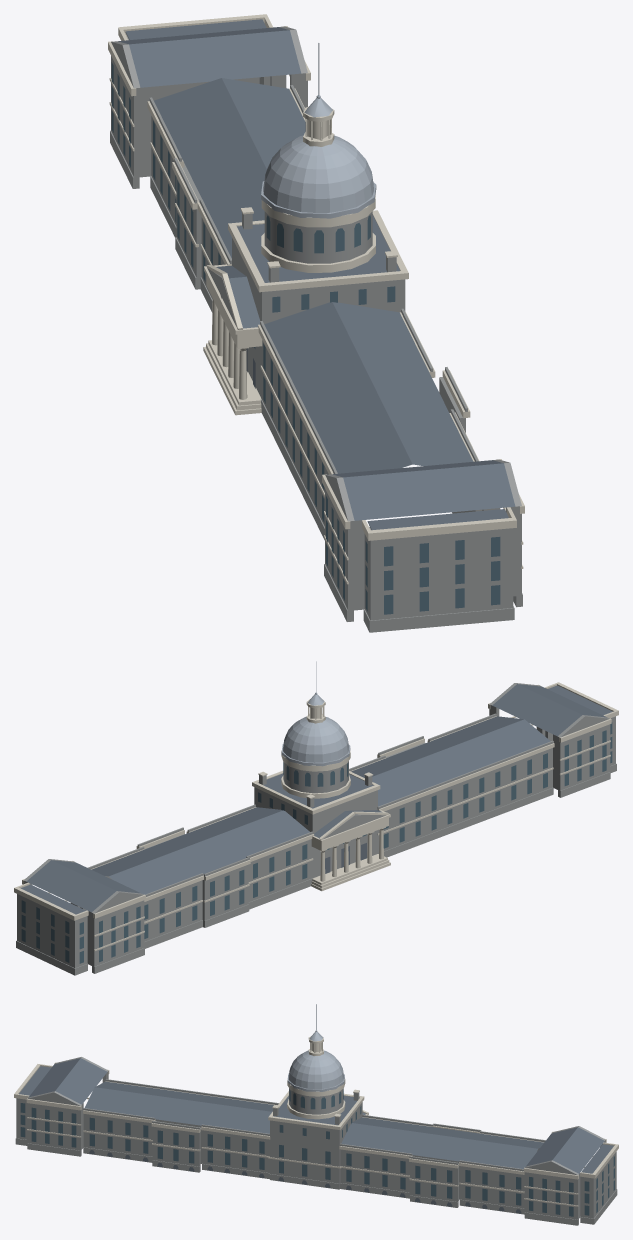
Rendered from marche-bonsecours-far.glb.
The picture shows the model from 3 angles, top to bottom: view 1: azimuth 30°, elevation 25°; view 2: azimuth 150°, elevation 25°; view 3: azimuth 270°, elevation 25°; orthographic projection. The views are drawn at different scales.
Parts seen in each view (by area): view 1: marche-bonsecours-0-roof, marche-bonsecours-0-stone, marche-bonsecours-0-pale, marche-bonsecours-0-glow, marche-bonsecours-0-tin; view 2: marche-bonsecours-0-stone, marche-bonsecours-0-roof, marche-bonsecours-0-pale, marche-bonsecours-0-glow, marche-bonsecours-0-tin; view 3: marche-bonsecours-0-stone, marche-bonsecours-0-roof, marche-bonsecours-0-pale, marche-bonsecours-0-glow, marche-bonsecours-0-tin.
Boxes of the visible parts, box(x1,y1,x2,y2) form: marche-bonsecours-0-roof: box(118, 19, 515, 530); marche-bonsecours-0-stone: box(110, 26, 522, 632); marche-bonsecours-0-pale: box(108, 14, 524, 584); marche-bonsecours-0-glow: box(111, 62, 500, 614); marche-bonsecours-0-tin: box(261, 43, 376, 218); marche-bonsecours-0-stone: box(16, 683, 616, 975); marche-bonsecours-0-roof: box(21, 684, 612, 914); marche-bonsecours-0-pale: box(14, 682, 618, 951); marche-bonsecours-0-glow: box(21, 722, 612, 963); marche-bonsecours-0-tin: box(281, 661, 350, 766); marche-bonsecours-0-stone: box(15, 1057, 617, 1225); marche-bonsecours-0-roof: box(19, 1058, 613, 1213); marche-bonsecours-0-pale: box(14, 1036, 618, 1206); marche-bonsecours-0-glow: box(20, 1089, 614, 1216); marche-bonsecours-0-tin: box(287, 1004, 344, 1091).
Bounding box in the file's own units: 72.53 × 49.4 × 163.
